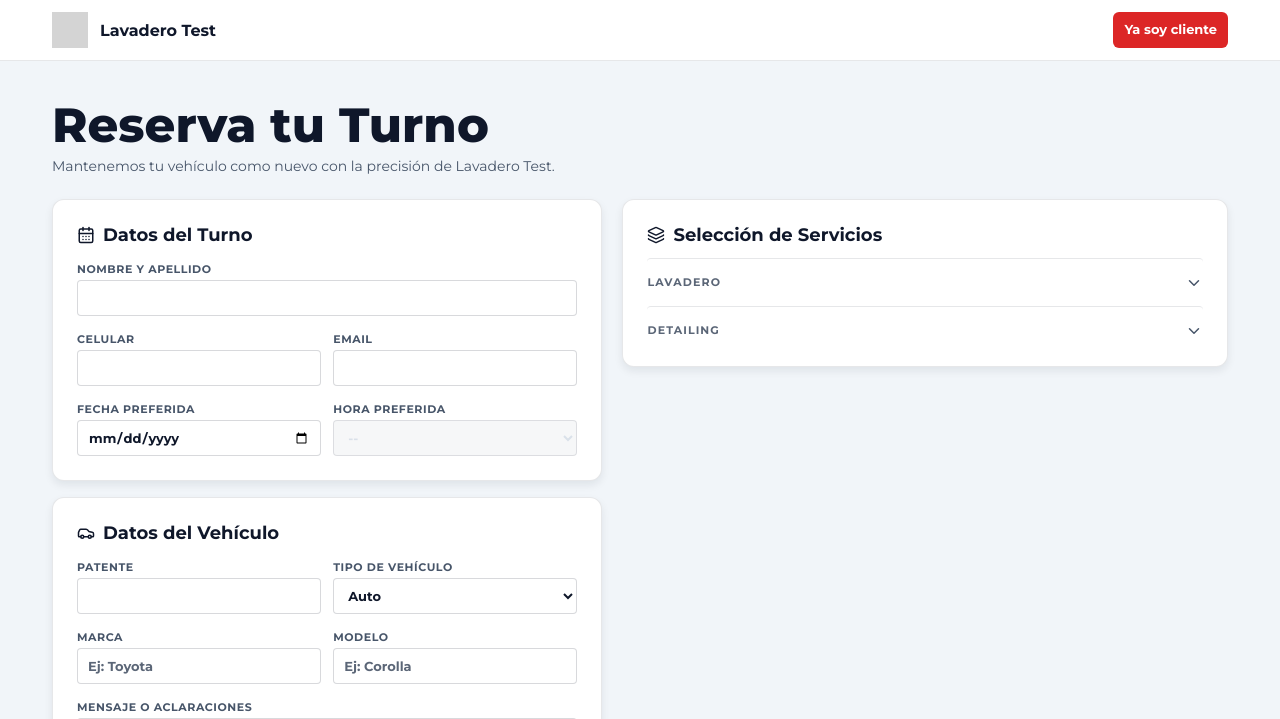
Scenario: los grupos de servicios arrancan colapsados y se abren al tocar el encabezado
Expected: the button "Lavado Premium" is not shown
Click the button "Lavadero".
click(684, 282)  # box top-left (648, 258), bottom-right (1203, 294)
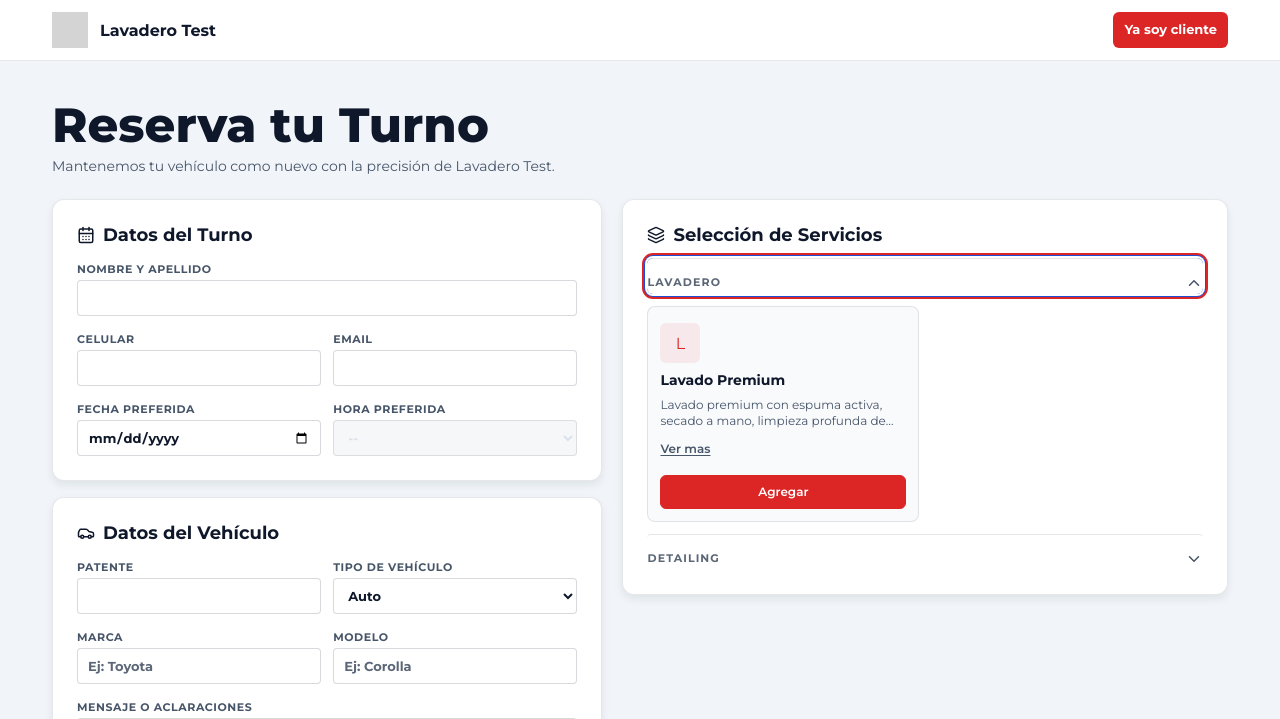
Result: the button with aria-label "Lavado Premium" is shown at top-left (660, 475), bottom-right (906, 509)
